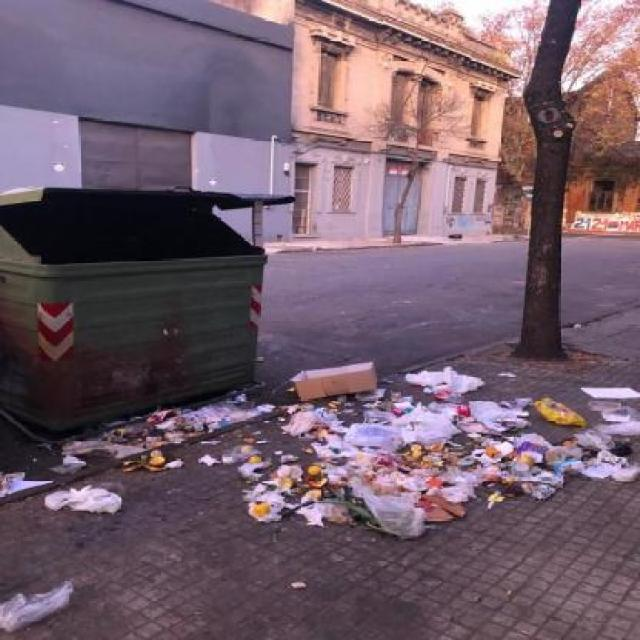garbage: (265, 359, 630, 548), (117, 390, 316, 546), (1, 424, 123, 640), (0, 573, 95, 638)
